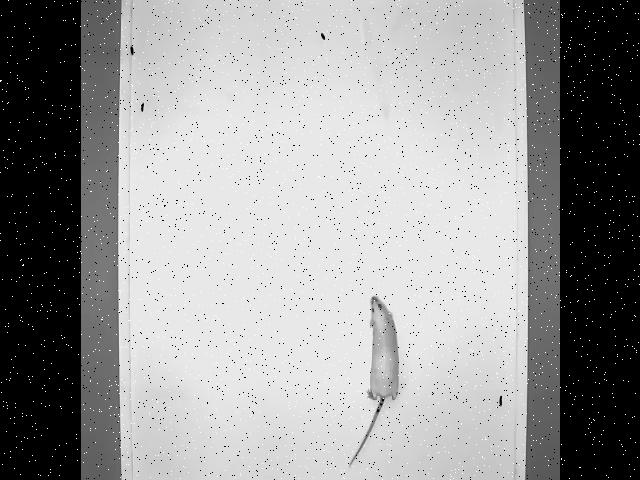Tikus: (340, 292, 402, 470)
